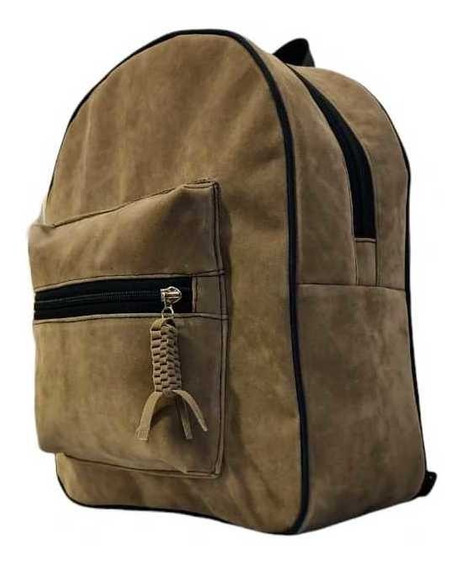cartera: (27, 27, 439, 536)
